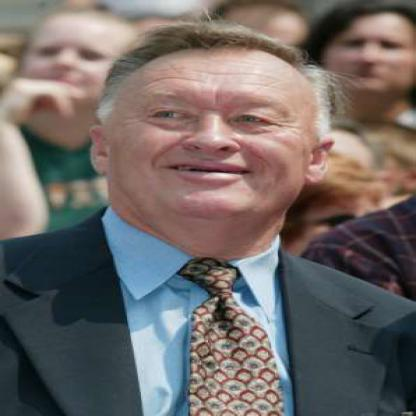face: (101, 40, 324, 223), (24, 9, 130, 106)
